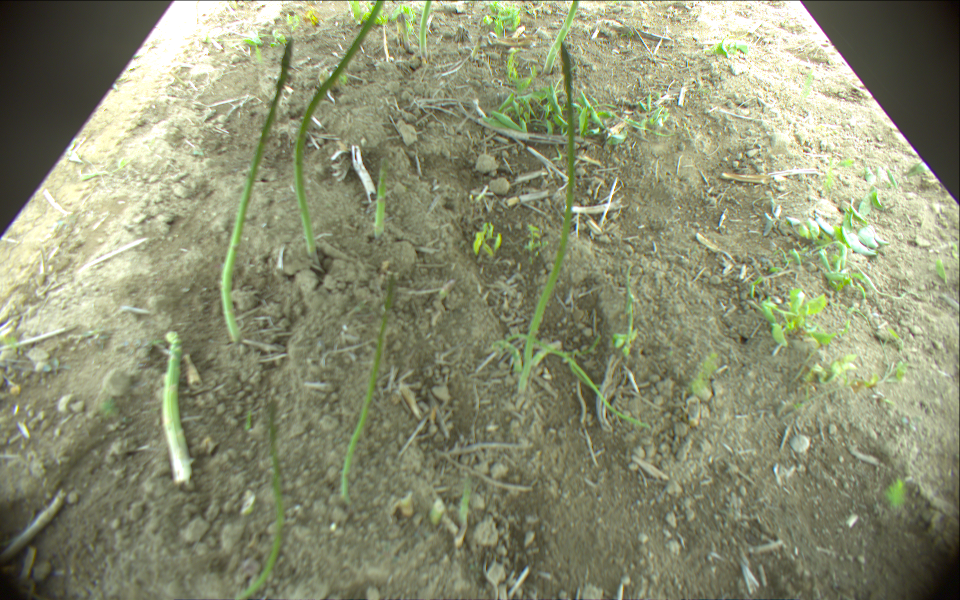aspa: (294, 1, 387, 258), (222, 39, 294, 342), (521, 43, 576, 389), (340, 277, 395, 497), (237, 403, 286, 600), (162, 334, 192, 482), (542, 1, 578, 74), (373, 155, 388, 235), (457, 472, 470, 529), (419, 1, 431, 58), (399, 13, 410, 51), (470, 34, 483, 58)
